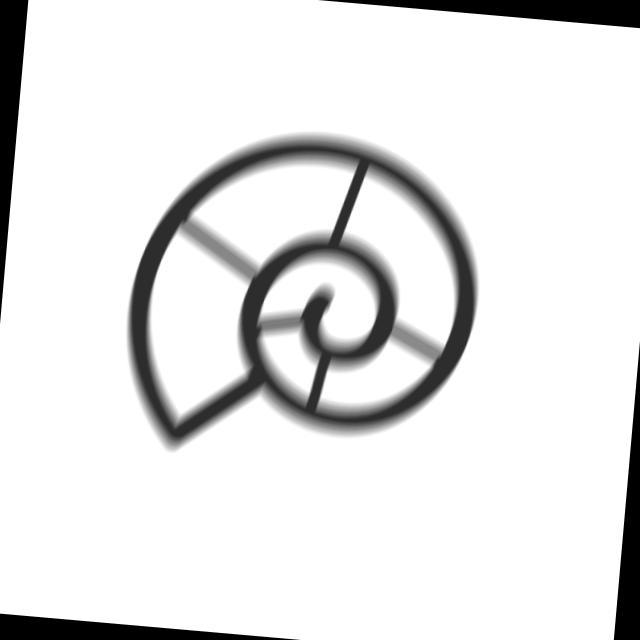fossil: (108, 111, 498, 481)
